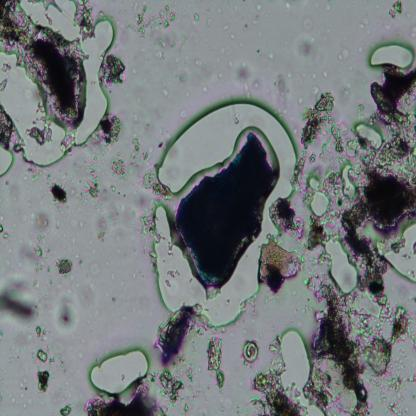Air bubble: (132, 90, 304, 332), (0, 0, 119, 154), (277, 325, 326, 416), (86, 347, 152, 398), (325, 234, 359, 295), (383, 226, 416, 286), (368, 42, 414, 72), (303, 170, 330, 220), (335, 165, 358, 205), (351, 122, 380, 150), (0, 144, 18, 185)
Background material: (301, 66, 416, 304), (307, 263, 408, 415), (0, 1, 94, 135), (249, 336, 307, 414), (24, 216, 72, 285), (73, 382, 165, 416), (154, 304, 200, 370), (259, 238, 300, 296), (0, 271, 42, 324), (156, 367, 201, 414), (126, 3, 176, 37), (32, 325, 56, 393), (266, 196, 303, 238), (125, 202, 158, 248), (79, 155, 106, 209), (96, 204, 134, 240), (109, 140, 143, 180), (53, 288, 80, 334), (206, 336, 228, 392), (44, 170, 72, 212), (140, 174, 178, 202), (94, 114, 121, 152), (270, 69, 293, 113), (98, 55, 129, 86), (231, 58, 256, 90), (295, 34, 319, 62), (240, 336, 262, 364), (165, 266, 179, 293), (0, 213, 12, 244), (152, 36, 170, 56), (386, 0, 404, 19), (0, 62, 10, 90), (334, 45, 350, 61), (281, 0, 295, 13), (176, 106, 188, 120), (359, 16, 370, 30), (251, 2, 264, 11), (160, 86, 170, 97), (264, 51, 274, 61), (193, 12, 200, 23)
Fragment: (174, 131, 270, 289)
